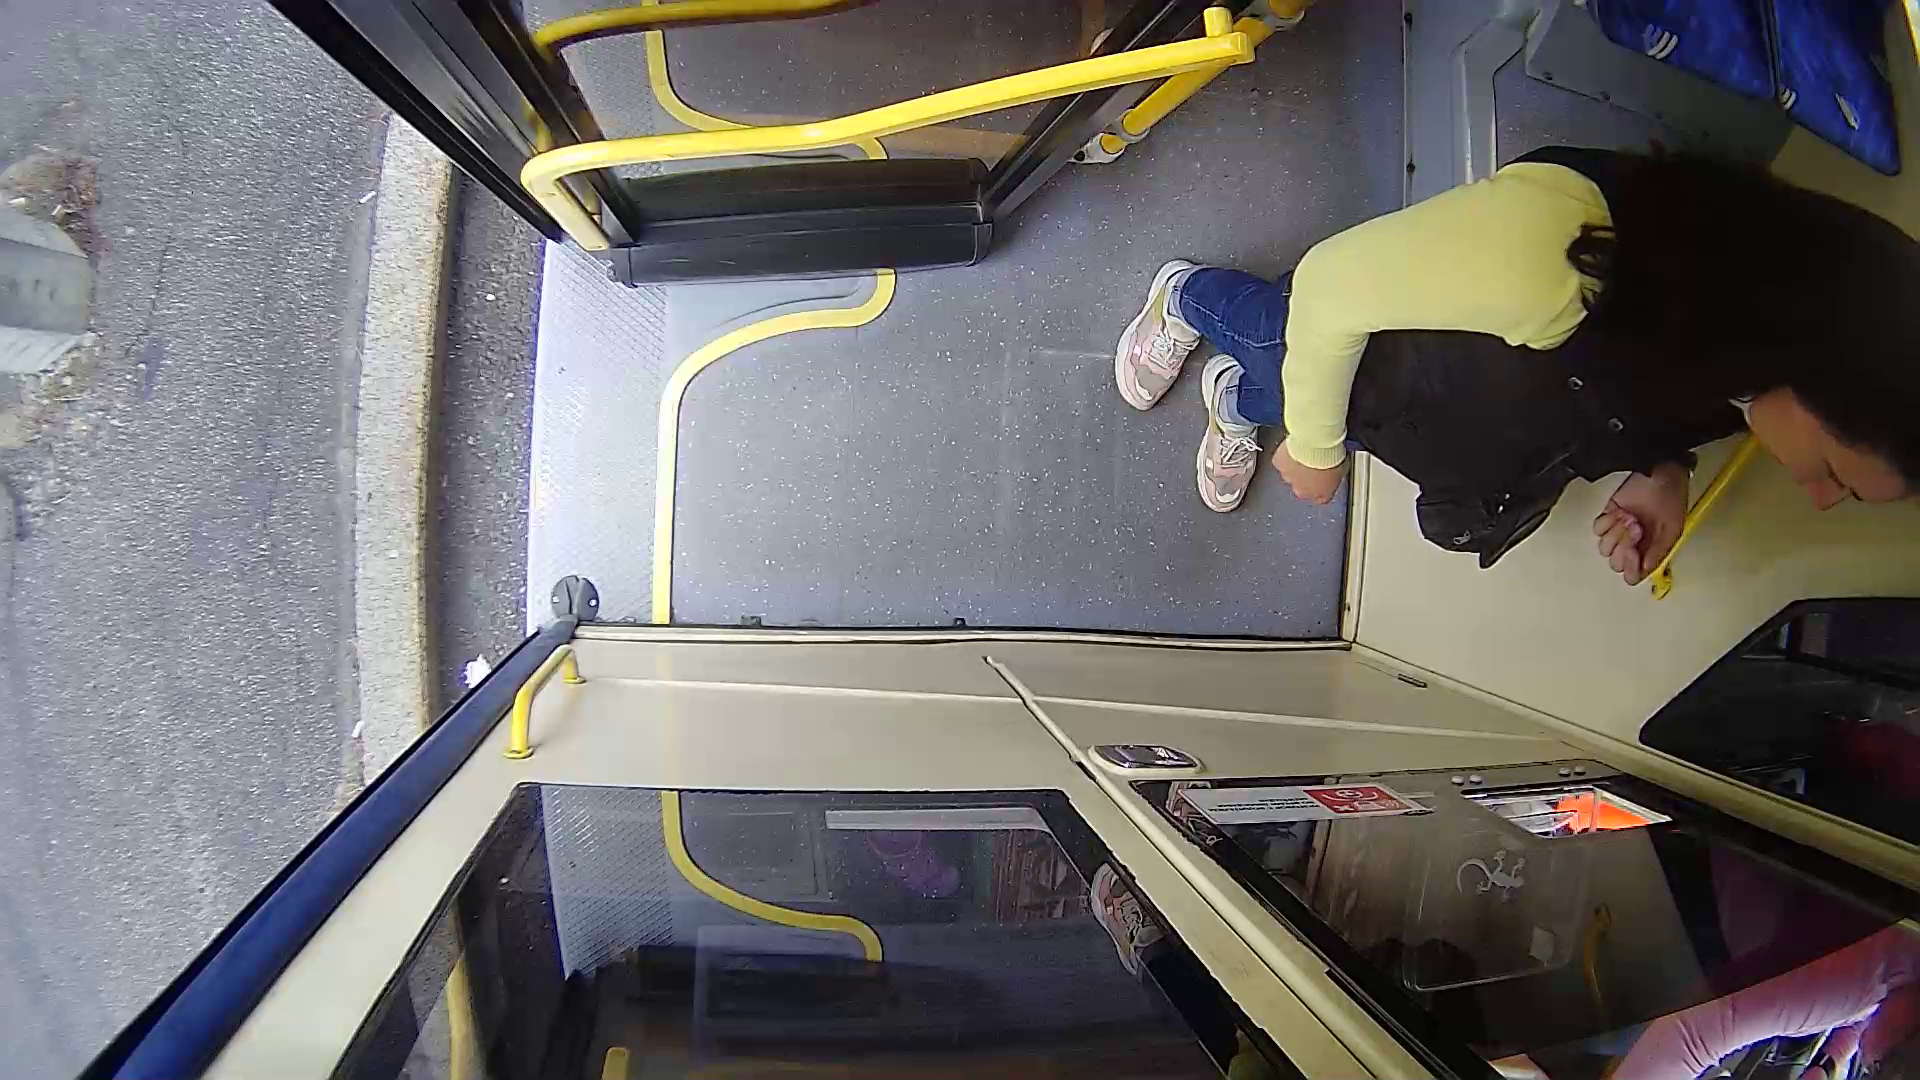person: (1124, 69, 1920, 647)
